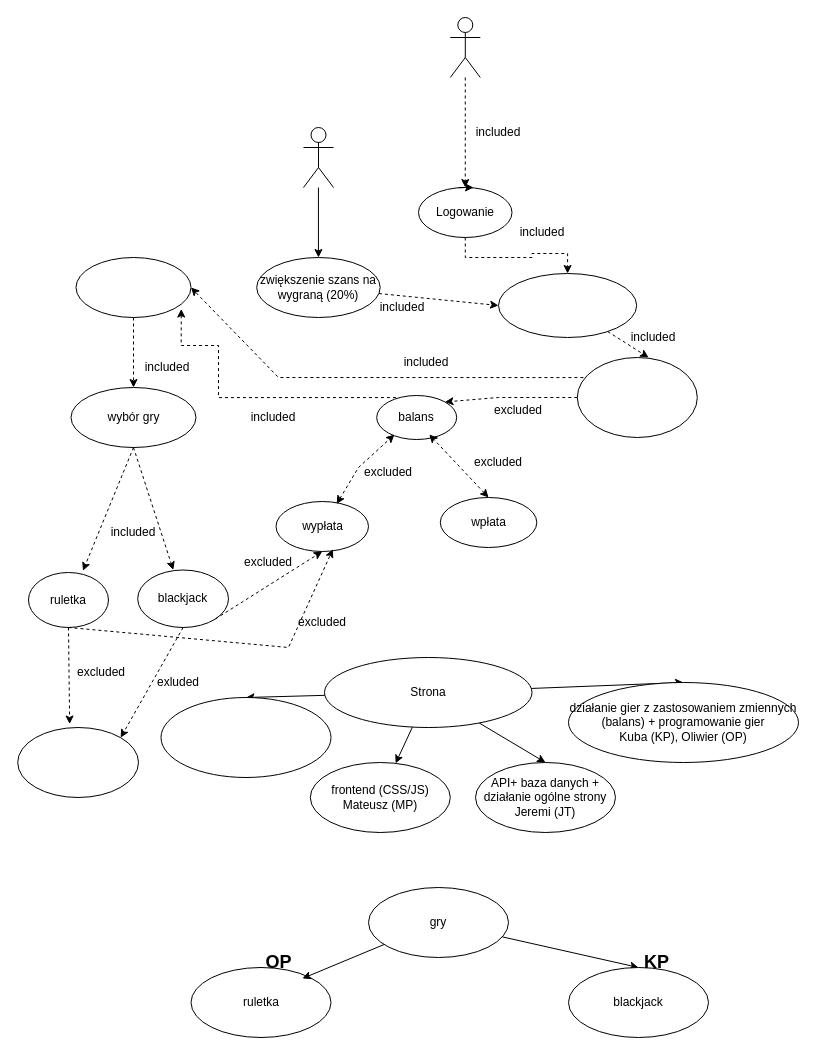
The diagram is 816 pixels wide and 1055 high, and some of its shapes have lost their labels. Each missing label, with the centre of its shape:
"backend (HTML szkielet) Nikodem (NZ)" goes at [245,737].
"dane do bazy danych i ich weryfikacja" goes at [636,397].
"konto (pobieranie danych -typ konta)" goes at [567,305].
"partner" goes at [318,157].
"user" goes at [464,47].
"weryfikacja balansu" goes at [133,287].
"wylogowanie" goes at [77,762].
